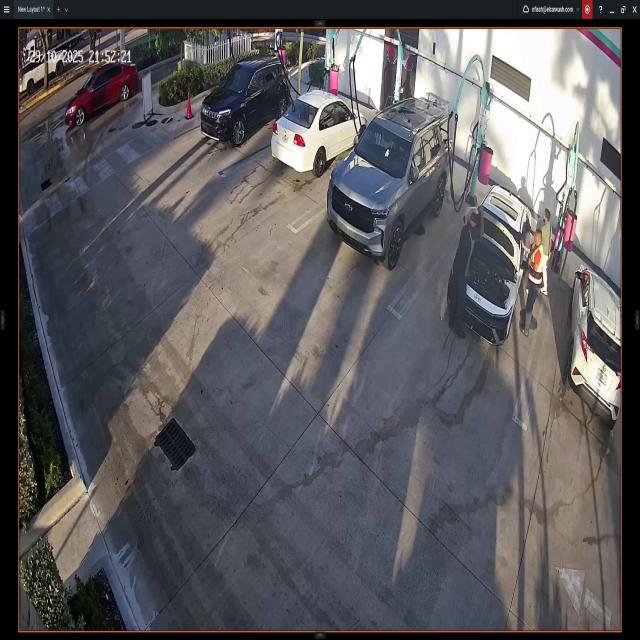Car: (328, 101, 452, 263), (449, 183, 530, 345), (203, 58, 290, 154), (570, 268, 620, 427), (272, 92, 367, 171), (66, 61, 138, 129)
